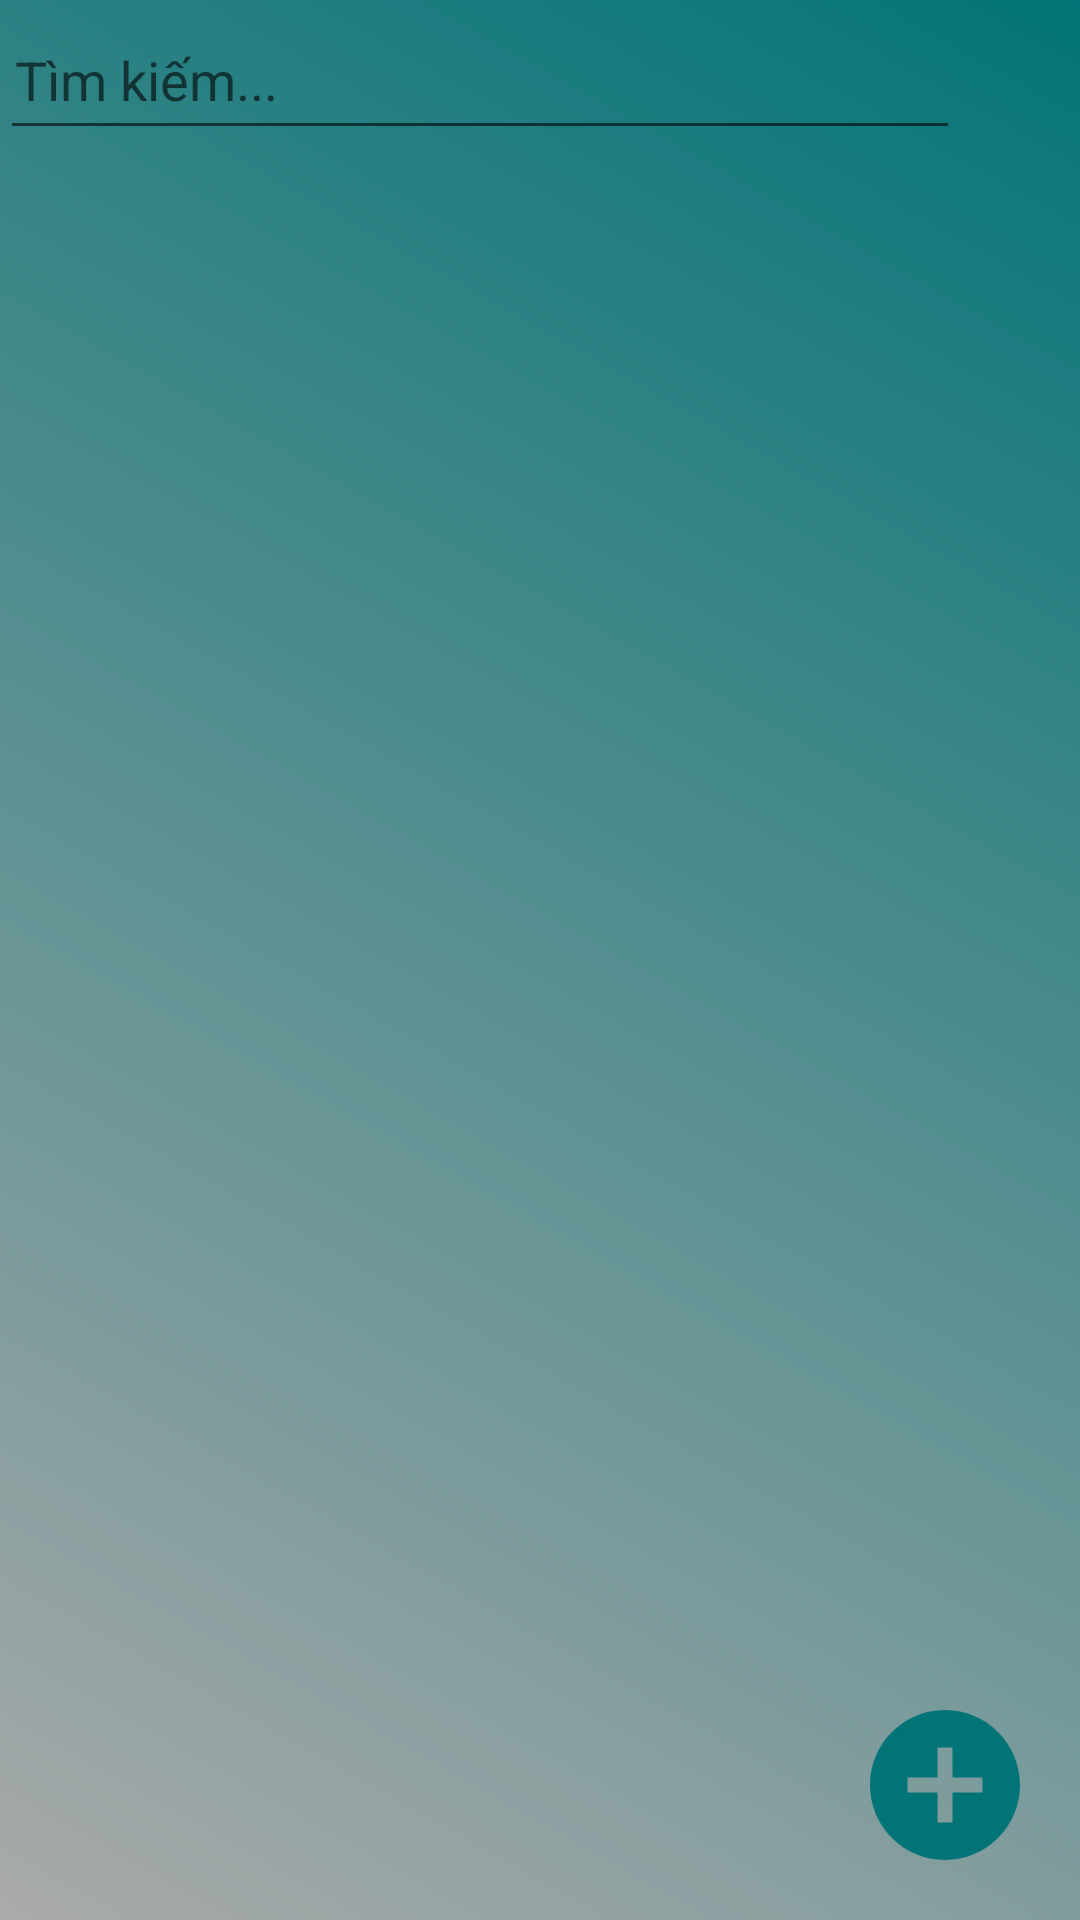

Where to tap for icons on this 1080x1920 app screen, as (x=x, y=y):
add circle: (x=945, y=1785)
